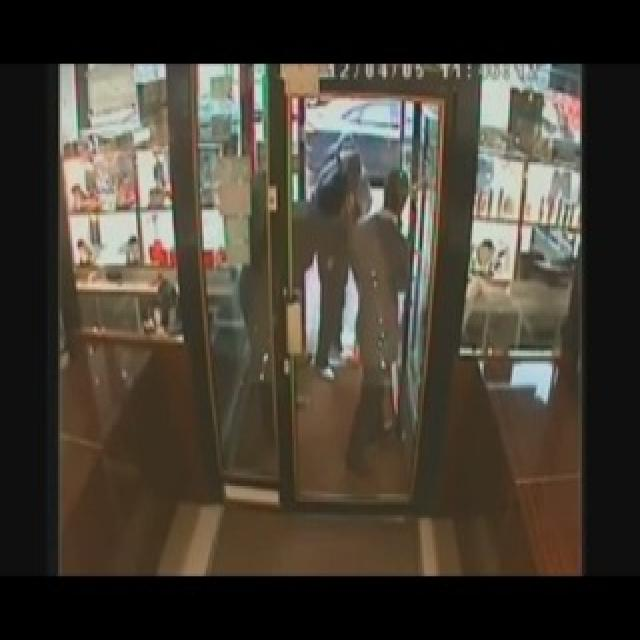thief: (319, 130, 368, 306)
